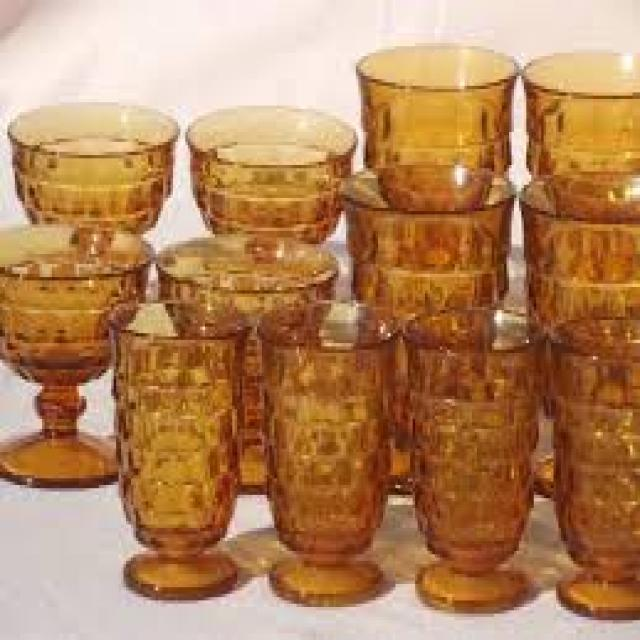glass: (336, 162, 514, 495), (153, 231, 336, 491), (104, 297, 252, 597), (254, 297, 398, 604), (400, 307, 534, 614), (0, 218, 153, 485), (514, 168, 638, 495), (546, 317, 638, 617), (183, 106, 356, 244), (5, 96, 175, 234), (354, 43, 517, 181), (519, 46, 637, 198)
